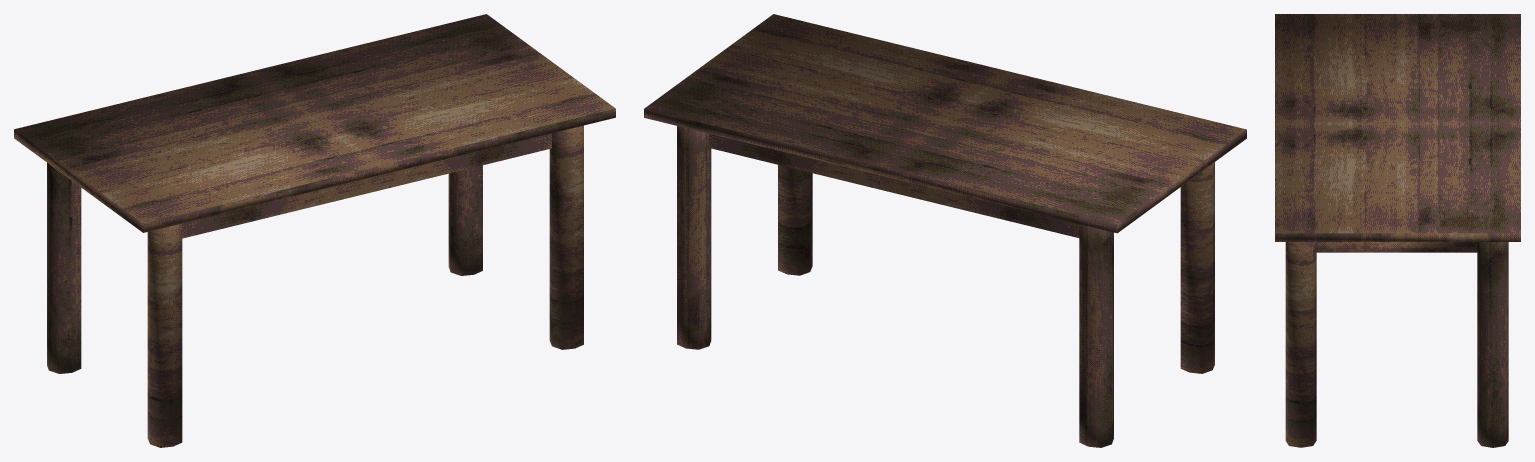
The model's file is table.glb.
3 views of the same model, side by side, from view 1: azimuth 30°, elevation 25°; view 2: azimuth 150°, elevation 25°; view 3: azimuth 270°, elevation 25° (orthographic). The views are drawn at different scales.
Visible parts, largest first — view 1: Table-col; view 2: Table-col; view 3: Table-col.
Part boxes in pixels (x1,y1,x2,y2): Table-col: [14, 14, 615, 447]; Table-col: [644, 14, 1246, 447]; Table-col: [1275, 14, 1520, 447].
Size of the model in its own units: 5.41 by 2.57 by 2.56.
Materials: 1 (1 with a texture image).
